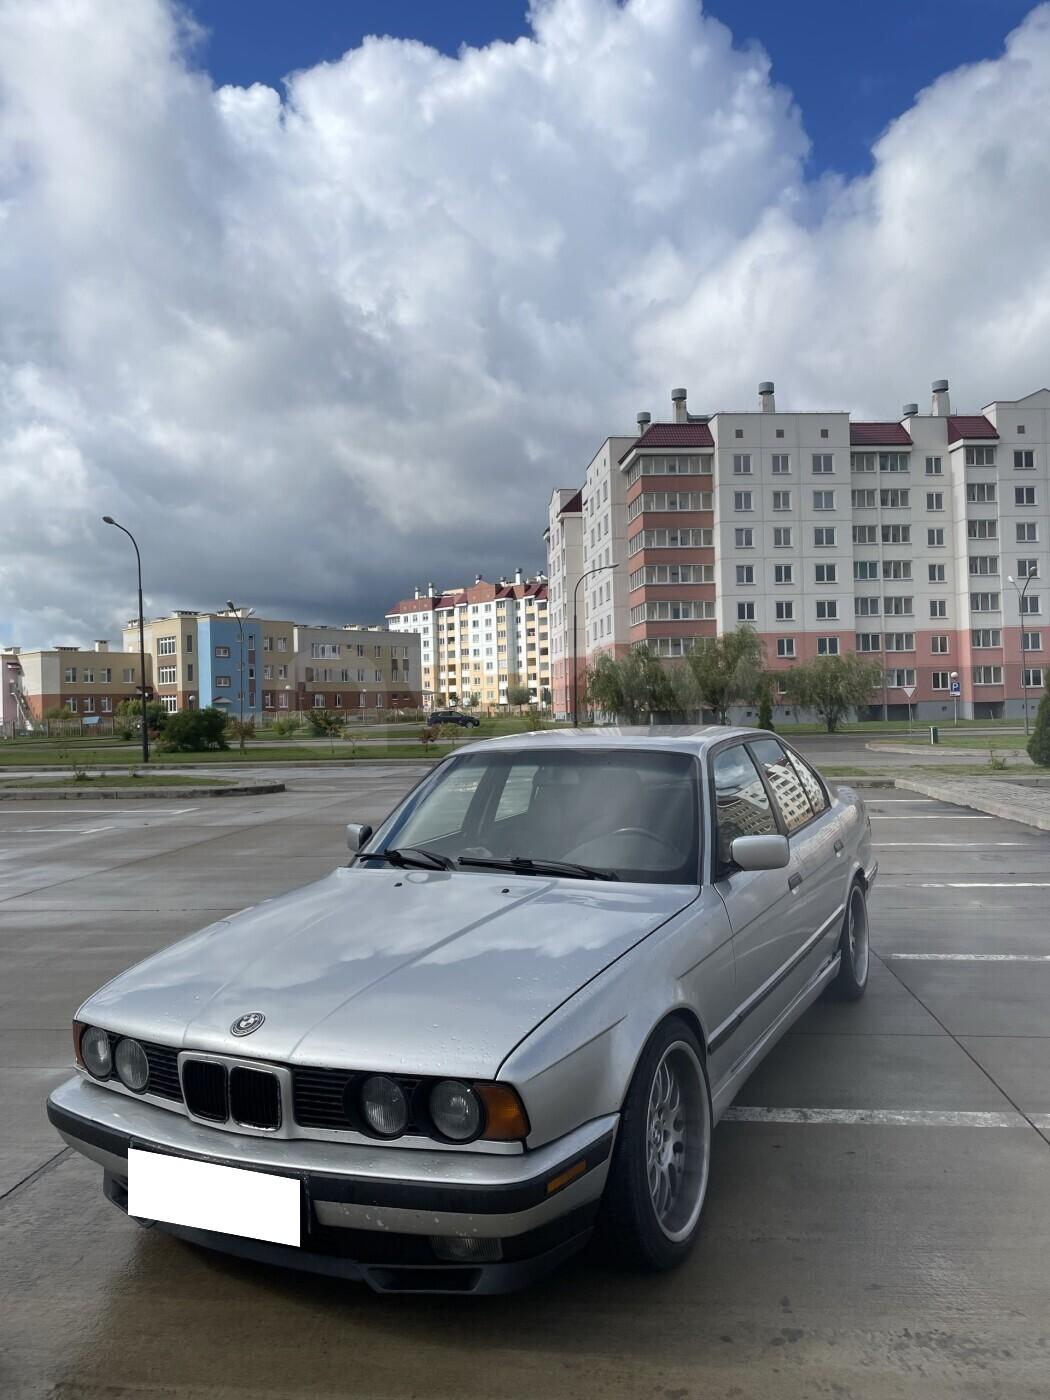BMW_E34_1992_3600: (36, 720, 886, 1304)
